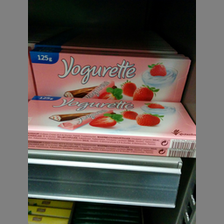chocolate: (30, 50, 192, 101), (28, 96, 195, 145)
